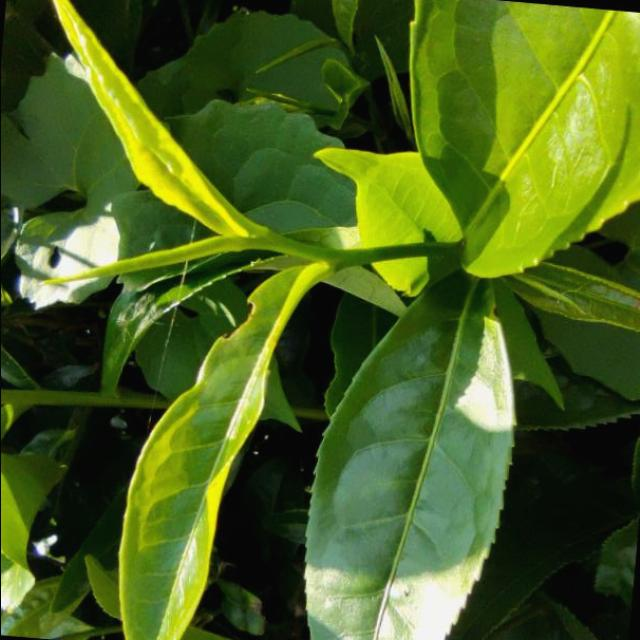Stem: (331, 251, 349, 267)
